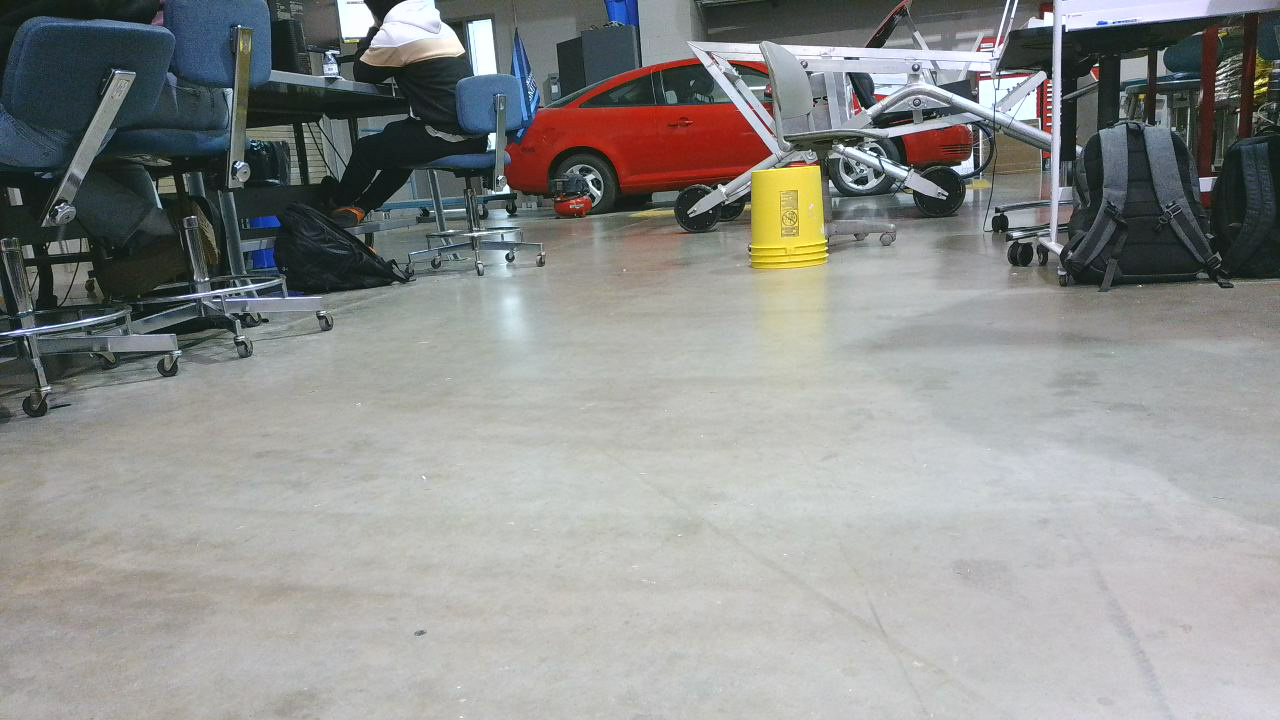yellow_bucket: (753, 173, 835, 281)
